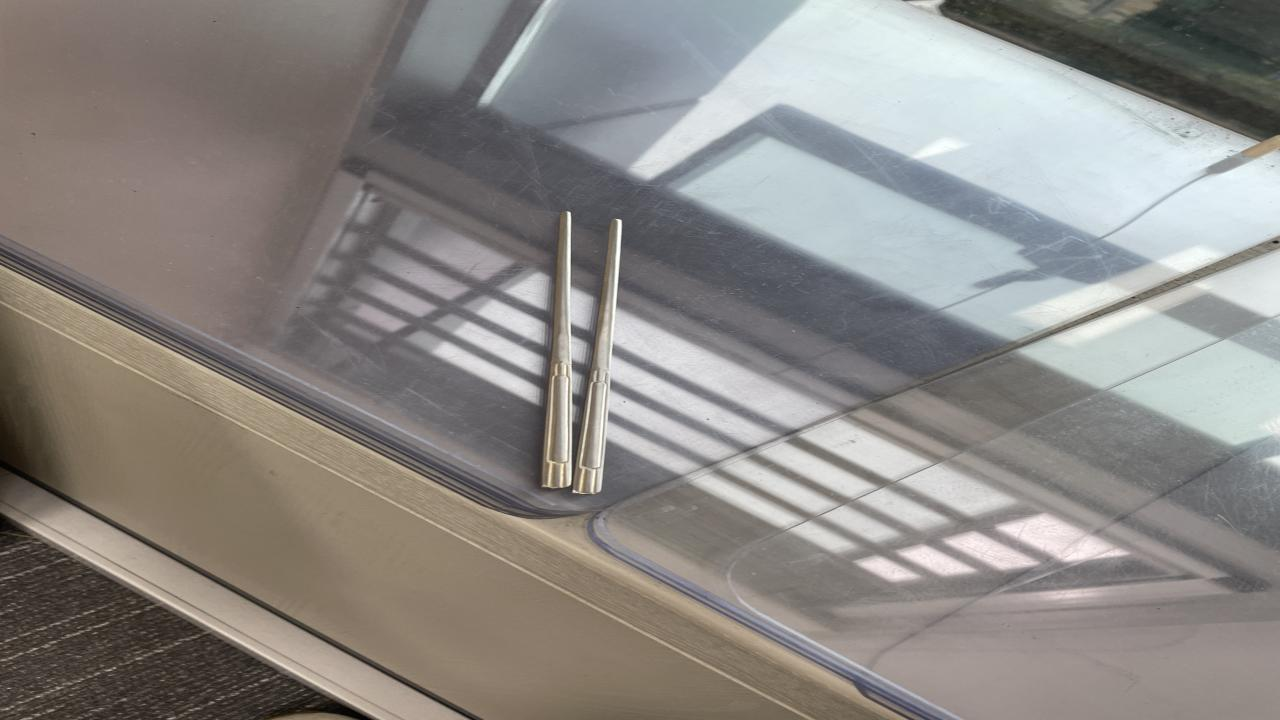chopstick: (538, 213, 622, 495)
